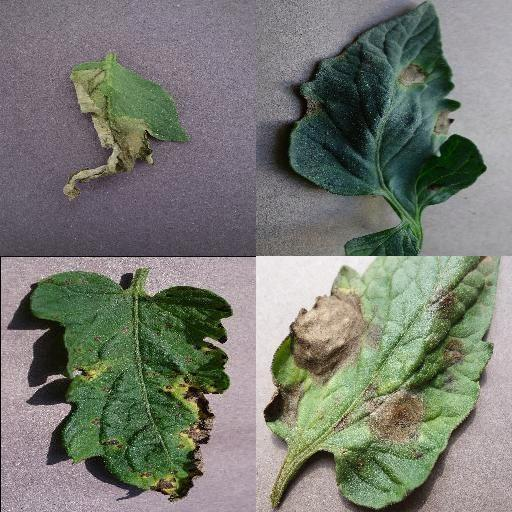Early Blight: (287, 0, 488, 210)
Late Blight: (264, 256, 502, 512), (62, 59, 190, 201)
Septoria: (27, 272, 228, 500)
